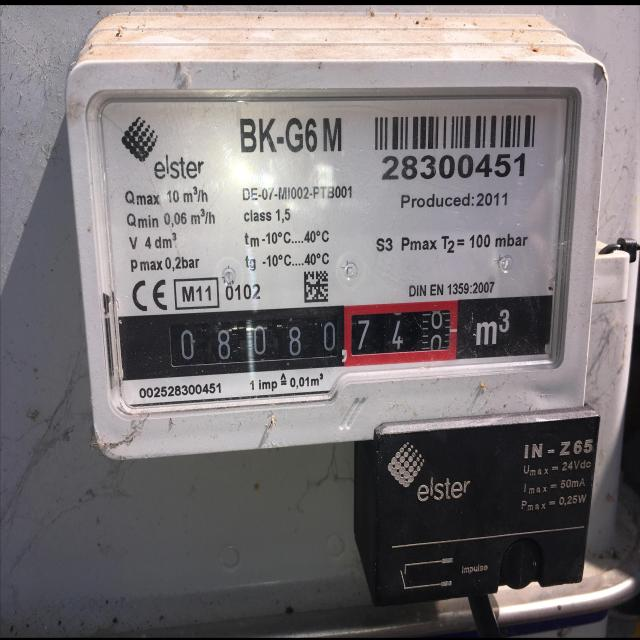gaz_meter: (97, 97, 571, 406)
indication: (158, 302, 461, 378)
